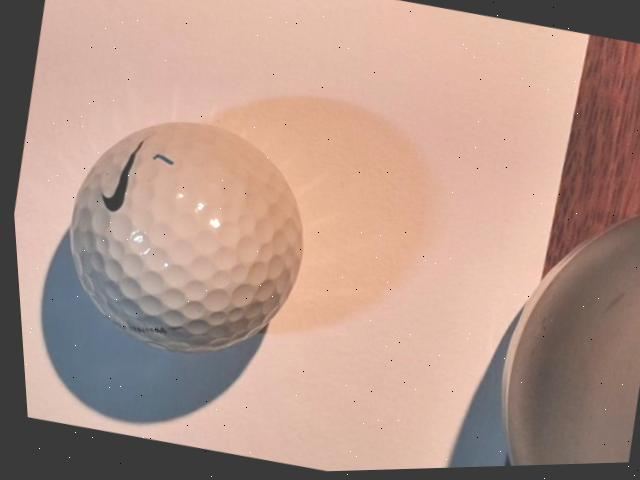Ball: (36, 96, 328, 379)
Nike: (90, 130, 147, 217)
